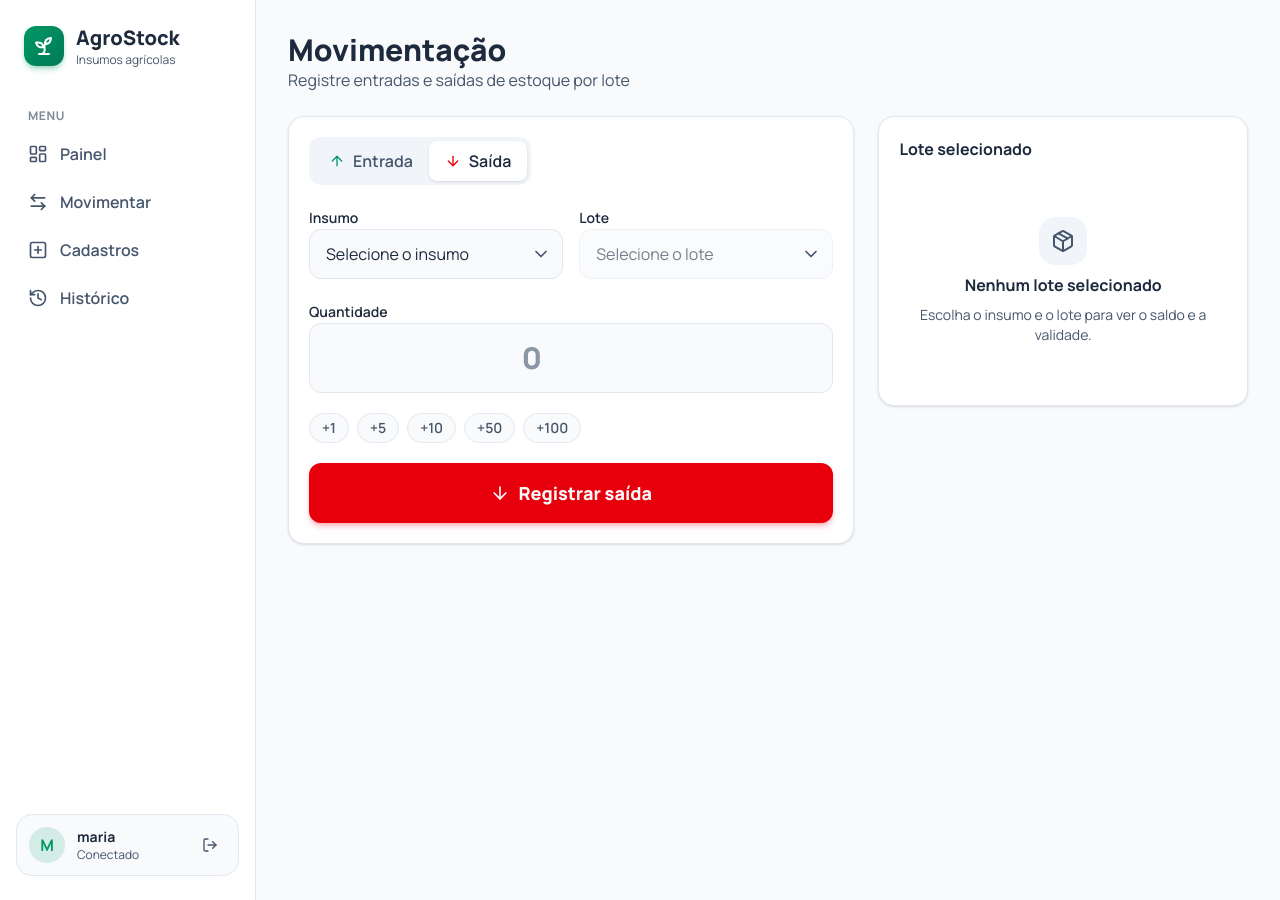
Test: Movimentação › F26 409 de saldo insuficiente (concorrência) mostra o saldo disponível
The width and height of the screenshot is (1280, 900).
Select "Semente Milho" in the dropdown labelled "Insumo": {"x": 436, "y": 254} top-left (309, 229), bottom-right (563, 279)
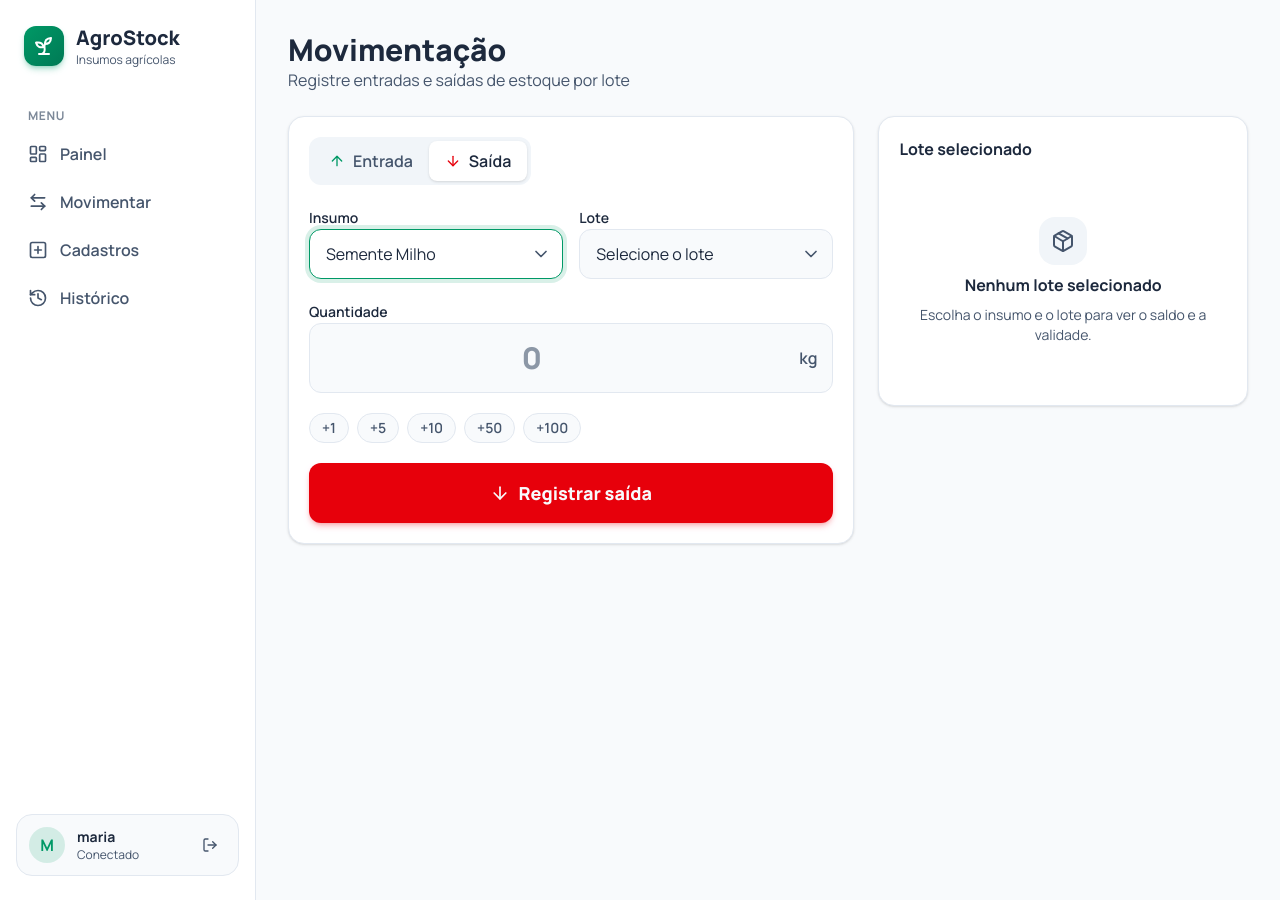
Select "L-01 · saldo 70" in the dropdown labelled "Lote": {"x": 706, "y": 254} top-left (579, 229), bottom-right (833, 279)
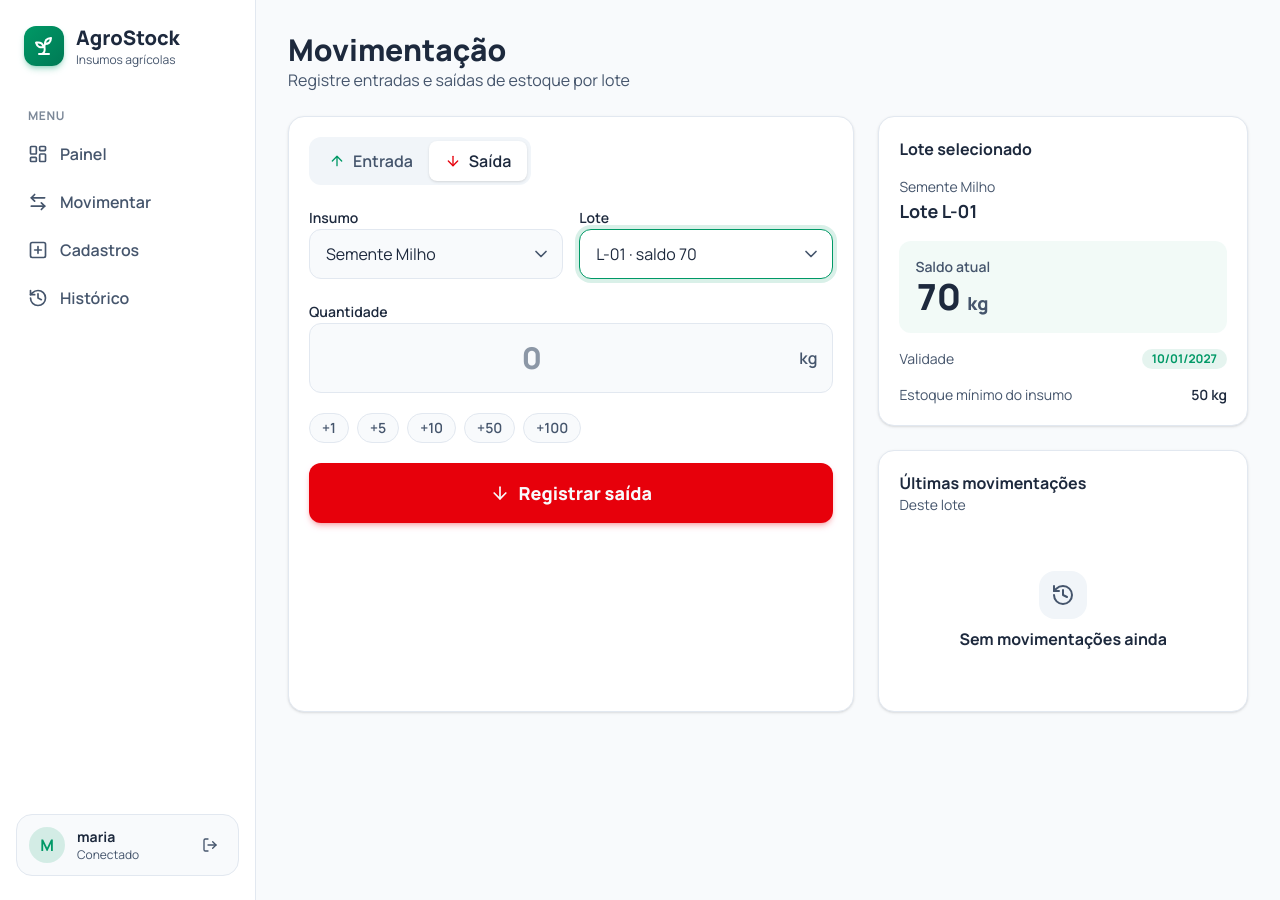
In the number field with placeholder "0": {"x": 571, "y": 358} top-left (309, 323), bottom-right (833, 393), type "20"
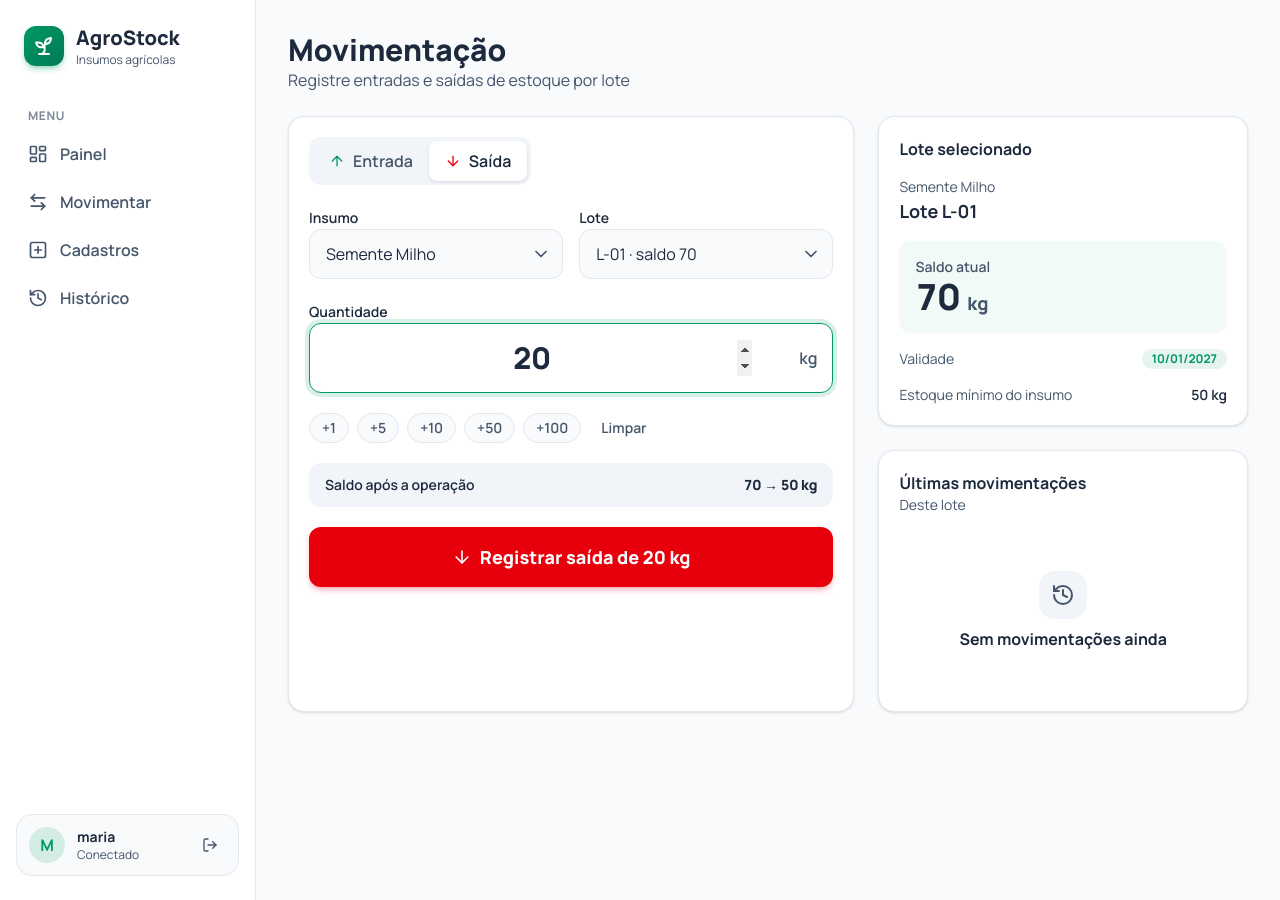
Click the button "Registrar saída de 20 kg": {"x": 571, "y": 557} top-left (309, 527), bottom-right (833, 587)
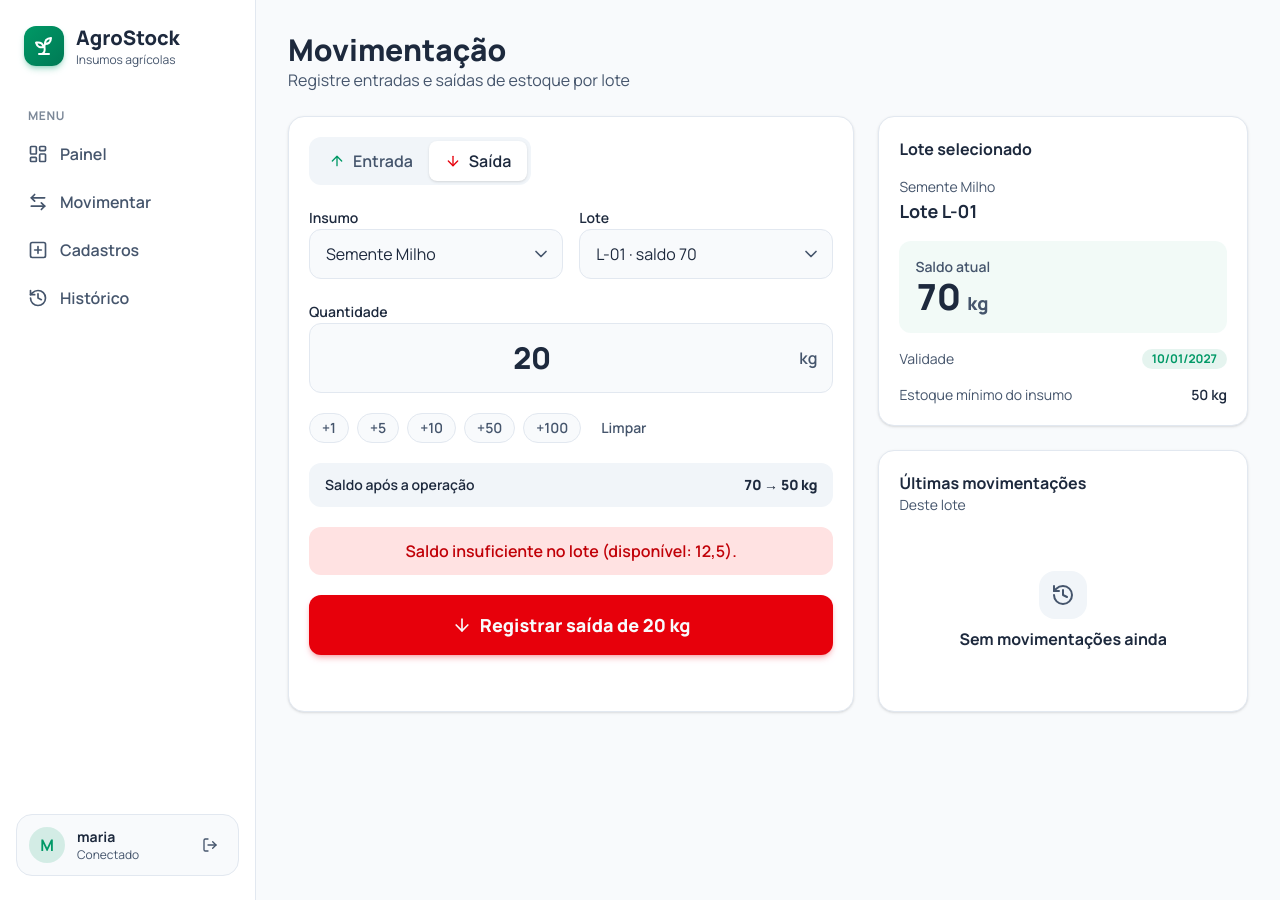
Check: the text "Saldo insuficiente no lote (disponível: 12,5)." is shown, box top-left (309, 527), bottom-right (833, 575)
